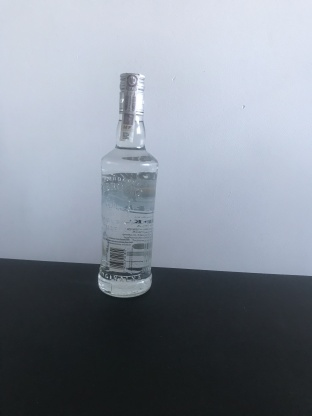nakretka: (116, 68, 148, 119)
